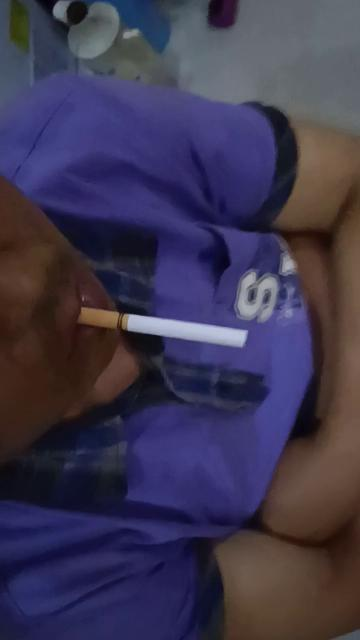Cigarette: (78, 306, 252, 349)
